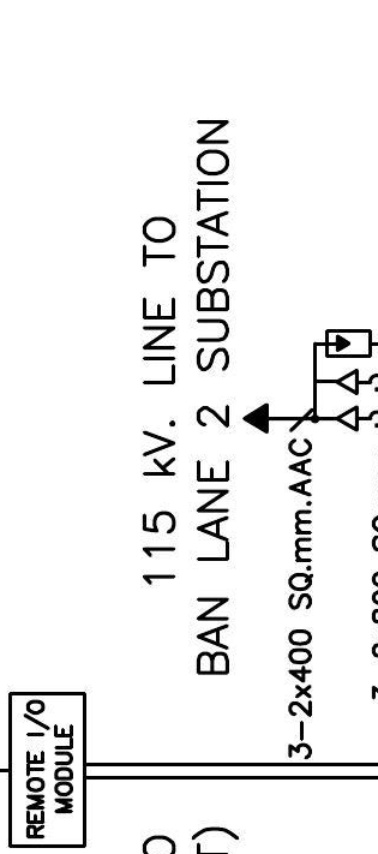remote_io_module: (8, 692, 87, 849)
terminator_double: (312, 367, 360, 433)
